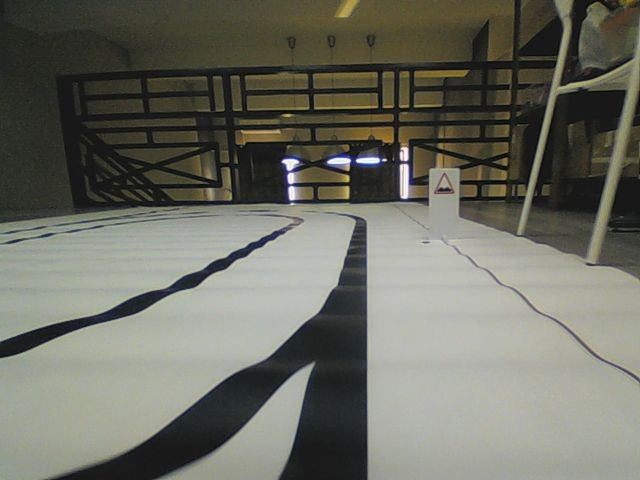Nerov: (432, 170, 455, 196)
